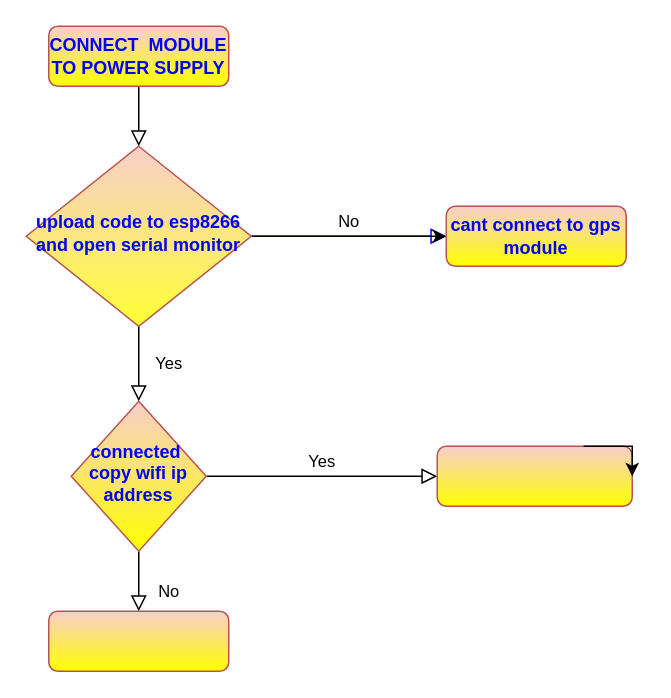
Image size: 671x698. Some labels were removed from this diagram. Each missing label, with the box of its shape:
coordinates wil lnot load: (47, 610, 229, 671)
open ip in browser coordinates will be shown: (436, 445, 632, 506)
